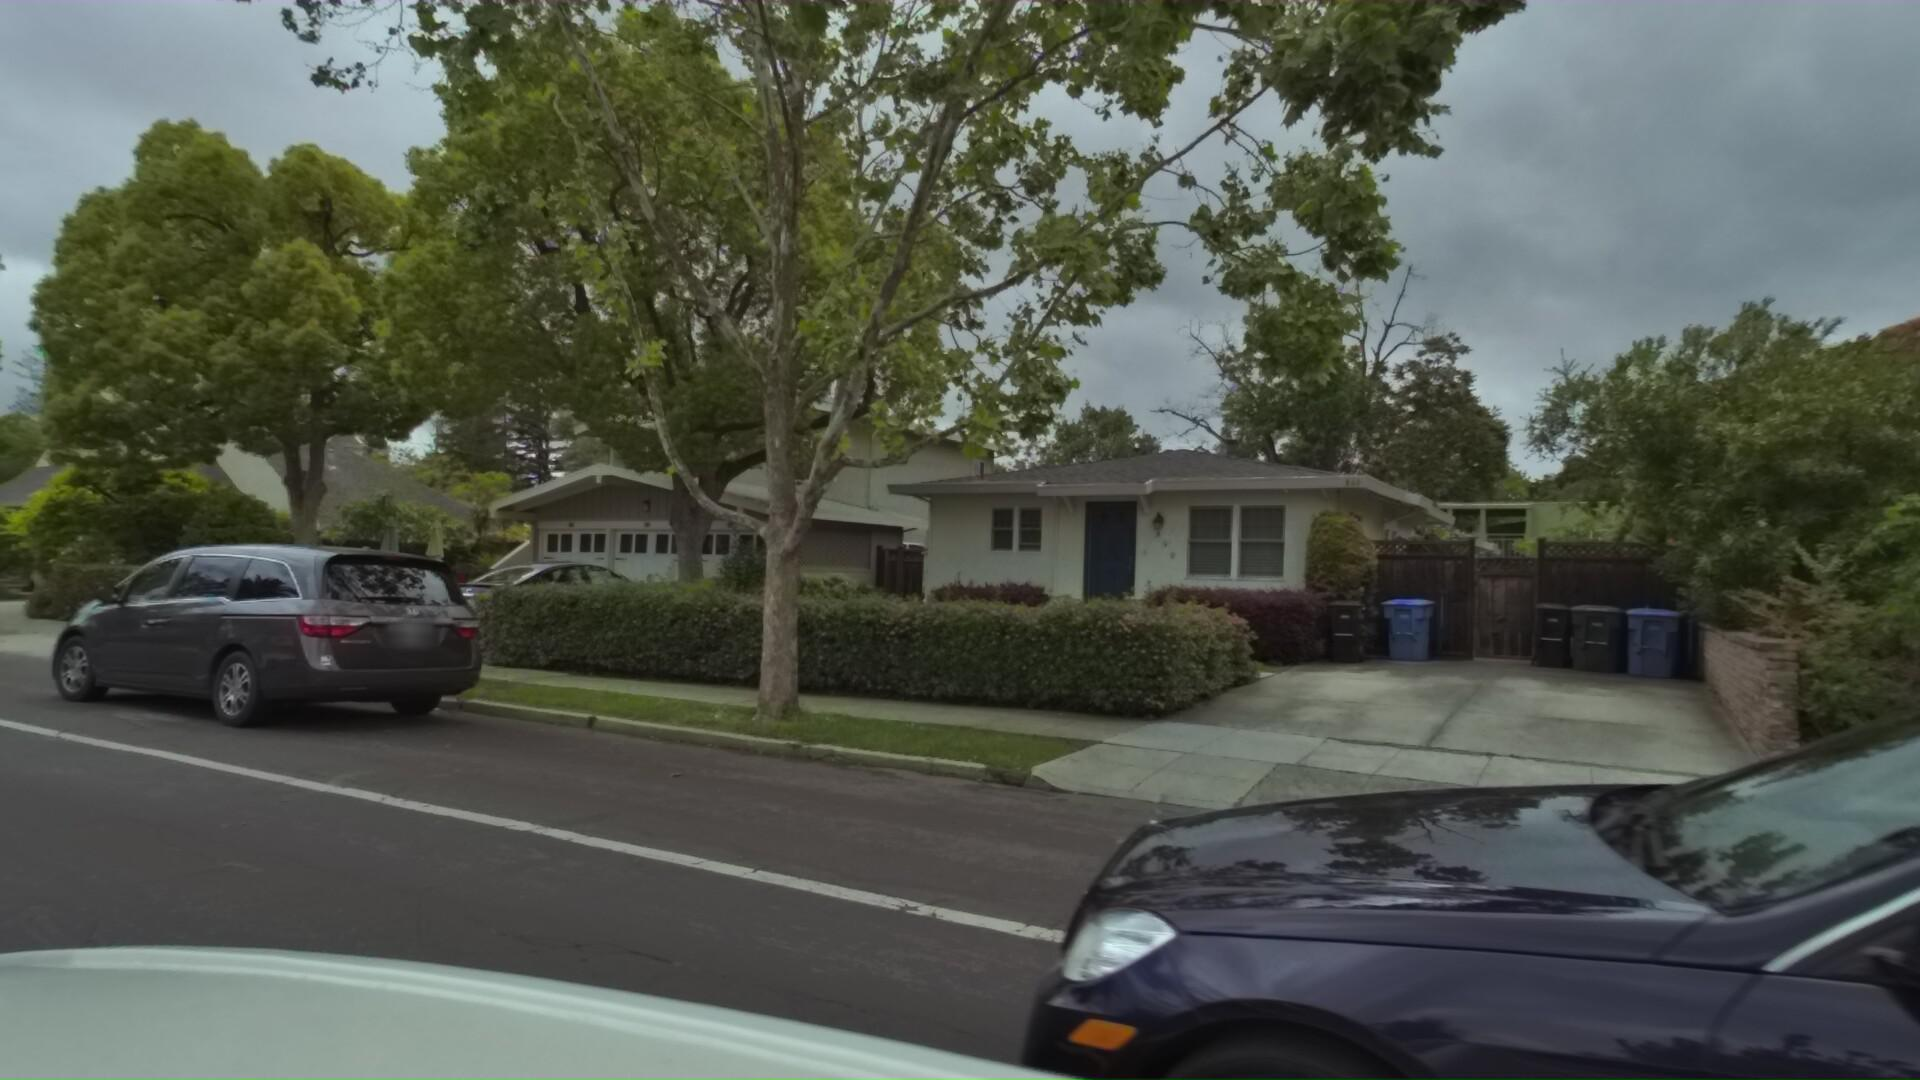car: (748, 568, 1920, 1080), (0, 535, 488, 746), (410, 555, 667, 649)
